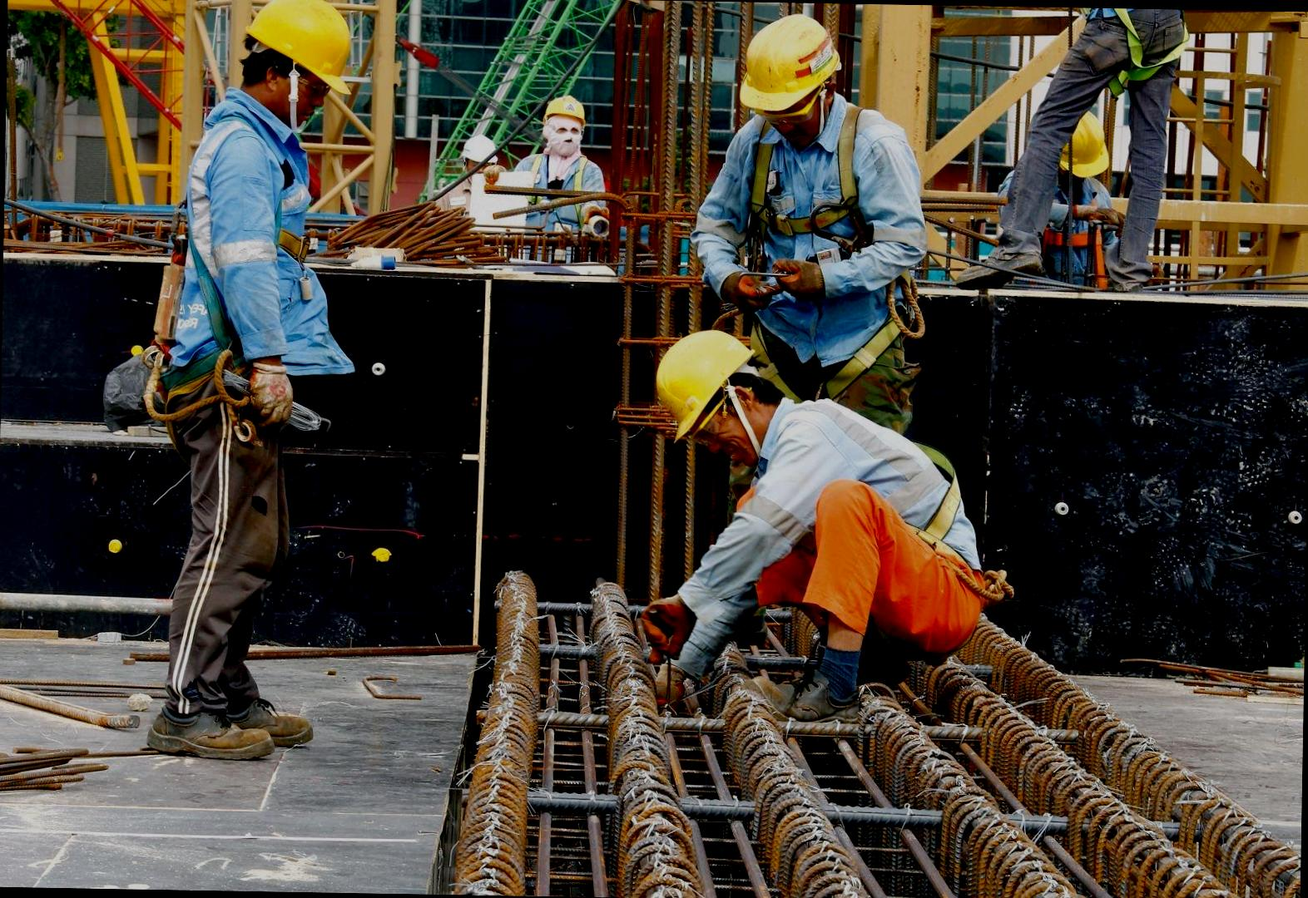helmet: (729, 9, 837, 125), (648, 332, 746, 447), (247, 3, 367, 89)
person: (134, 0, 363, 757), (612, 326, 992, 714), (706, 2, 934, 413)
